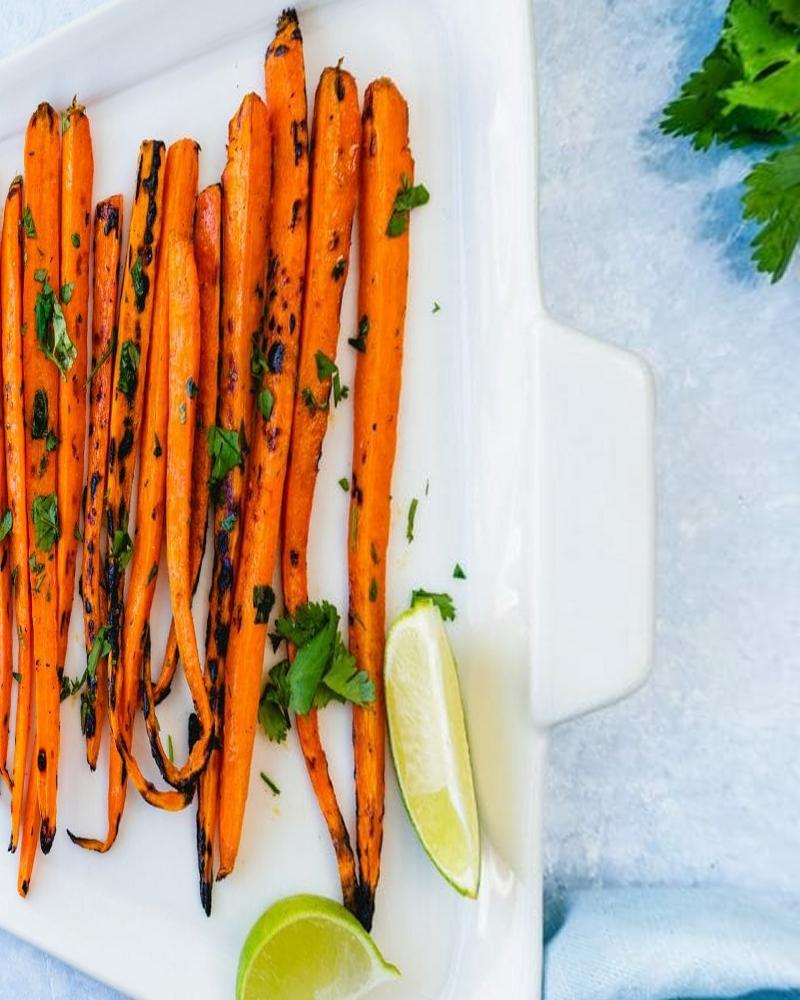carrot: (3, 100, 437, 930), (29, 156, 324, 843)
